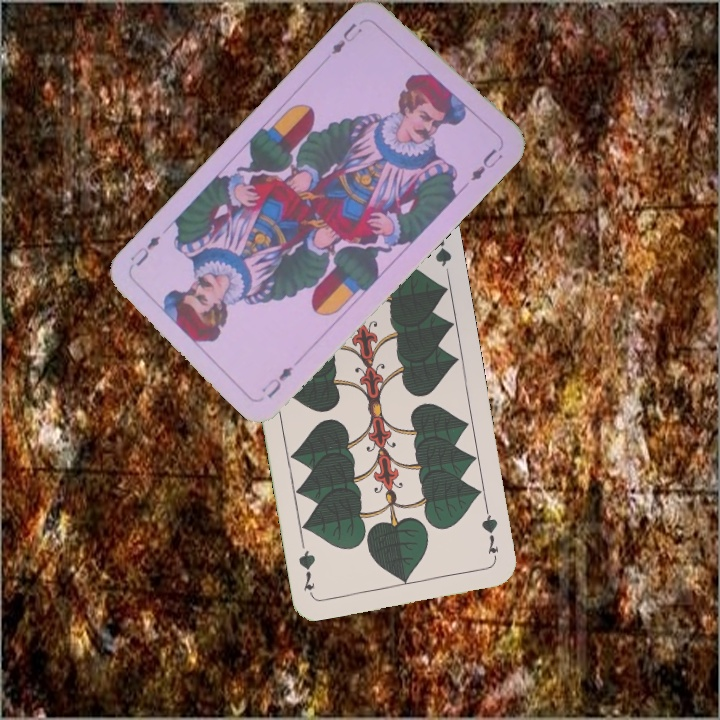EU: (257, 362, 296, 401), (327, 18, 365, 57)
G7: (477, 505, 501, 564)
